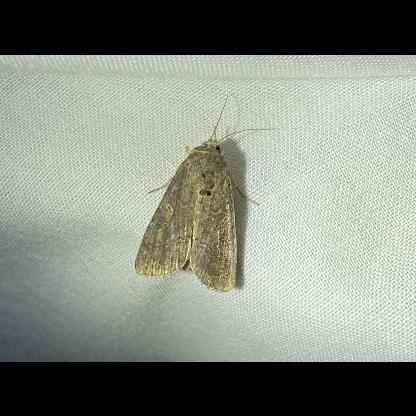Fall Armyworm Moth: (132, 91, 278, 295)
